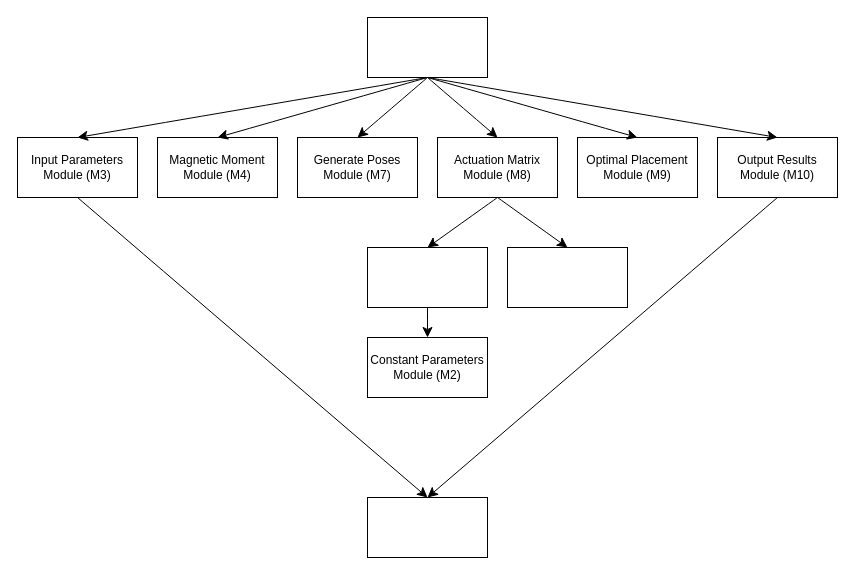
The diagram is 855 pixels wide and 575 high, and some of its shapes have lost their labels. Each missing label, with the centre of its shape:
Hardware Hiding Module (M1): (x=427, y=527)
Magnetic Field Module (M5): (x=427, y=277)
Magnetic Force Module (M6): (x=567, y=277)
Main Module (M11): (x=427, y=47)
